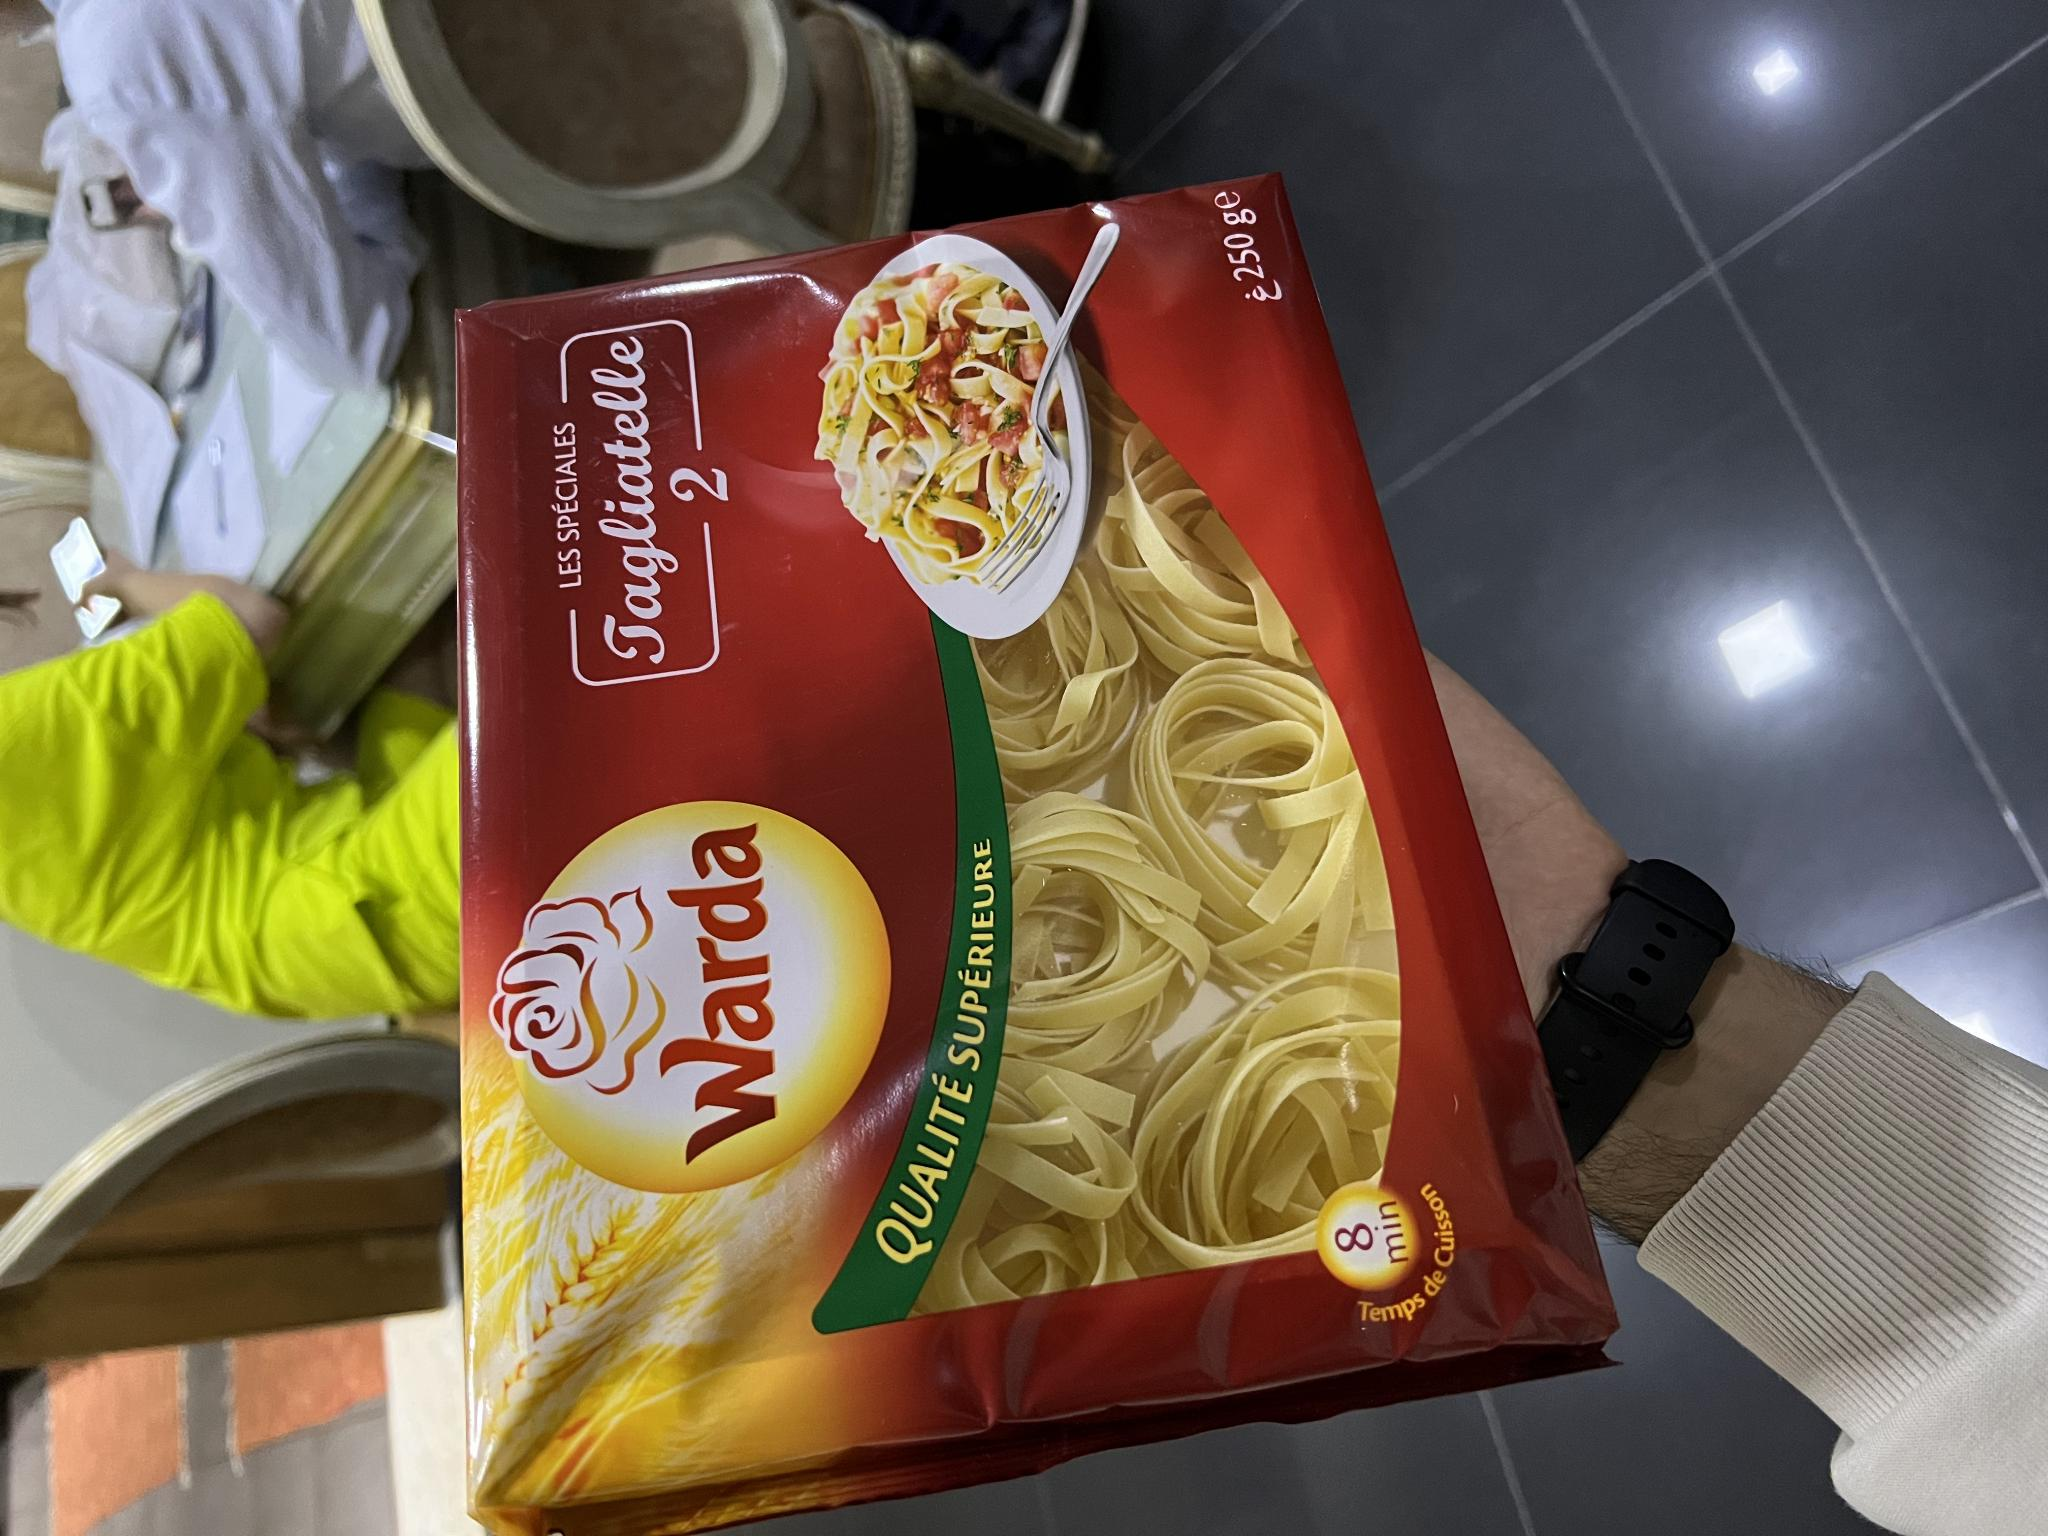Tagliatelle: (481, 197, 1590, 1468)
